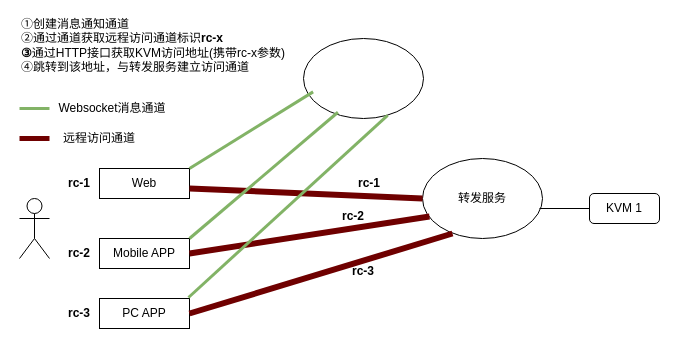
The diagram is 677 pixels wide and 347 high, and some of its shapes have lost their labels. The shapes that lost their labels are listed below. From the top down, each one's centre as x and y in pixels, then its label:
At (x=363, y=78): "平台".
At (x=34, y=228): "Actor".
